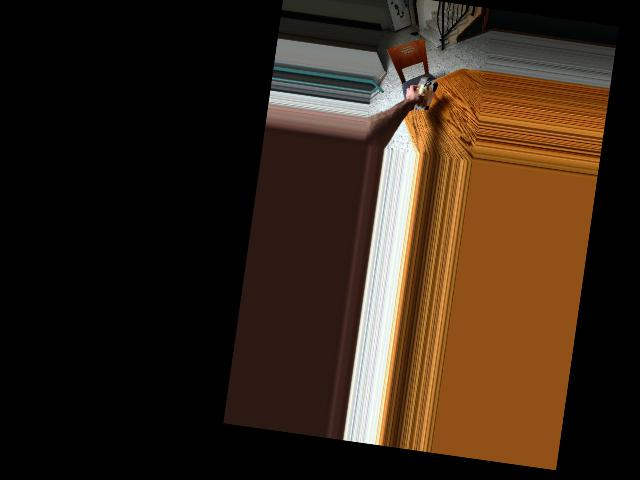cheese: (411, 77, 438, 112)
